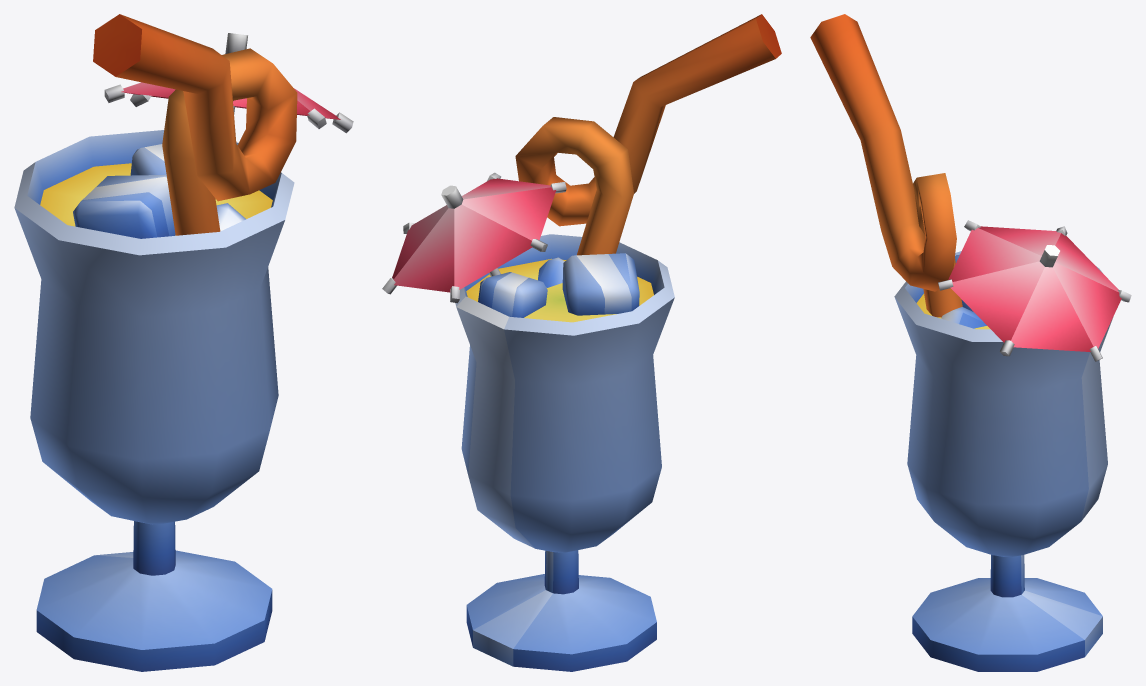
Rendered from m_Cocktail22.fbx.
3 views of the same model, side by side, from view 1: azimuth 30°, elevation 25°; view 2: azimuth 150°, elevation 25°; view 3: azimuth 270°, elevation 25° (orthographic). The views are drawn at different scales.
Visible parts, largest first — view 1: m_Cocktail22; view 2: m_Cocktail22; view 3: m_Cocktail22.
Part boxes in pixels (bbox=[...]): m_Cocktail22: bbox=[14, 14, 353, 671]; m_Cocktail22: bbox=[382, 14, 781, 671]; m_Cocktail22: bbox=[810, 14, 1131, 671].
Size of the model in its own units: 17.3 by 32.78 by 16.85.
